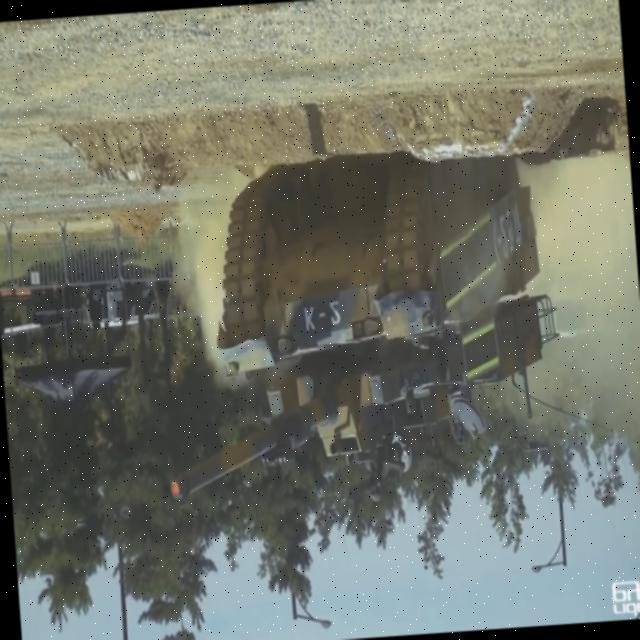korea tank: (143, 137, 572, 514)
